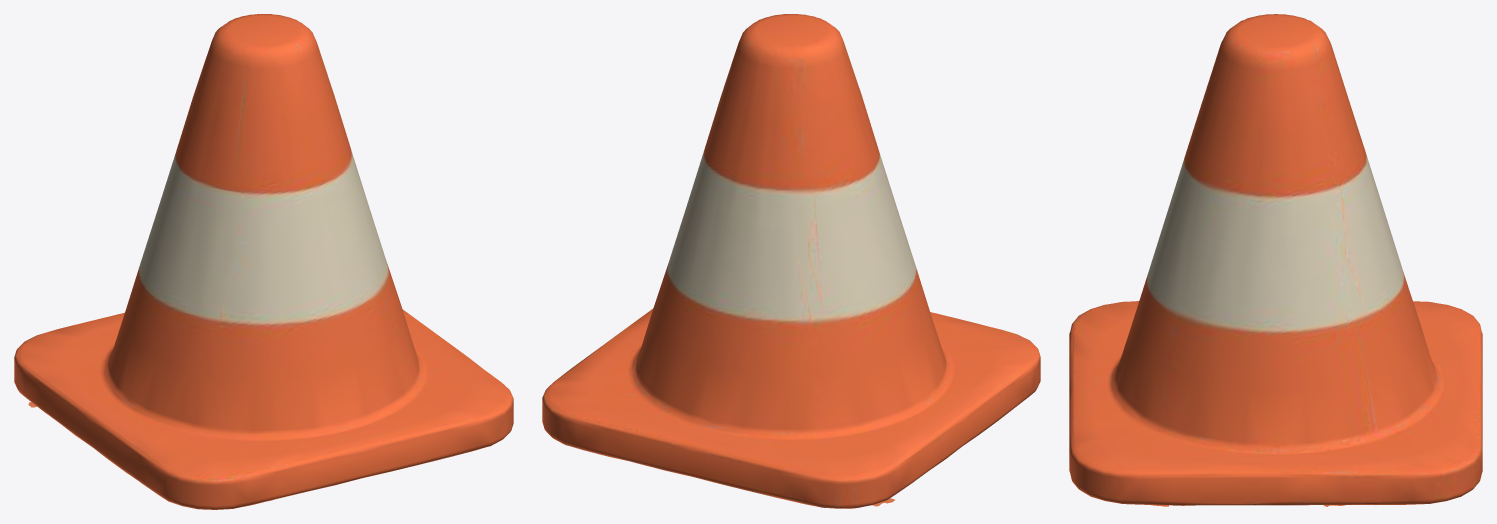
Rendered from traffic_cone.glb.
3 views of the same model, side by side, from view 1: azimuth 30°, elevation 25°; view 2: azimuth 150°, elevation 25°; view 3: azimuth 270°, elevation 25° (orthographic). The views are drawn at different scales.
Visible parts, largest first — view 1: tripo_node_440c4243-bf22-41bd-a63c-8d0c5fa62843; view 2: tripo_node_440c4243-bf22-41bd-a63c-8d0c5fa62843; view 3: tripo_node_440c4243-bf22-41bd-a63c-8d0c5fa62843.
Part boxes in pixels (x1,y1,x2,y2): tripo_node_440c4243-bf22-41bd-a63c-8d0c5fa62843: (14, 14, 513, 509); tripo_node_440c4243-bf22-41bd-a63c-8d0c5fa62843: (542, 14, 1040, 508); tripo_node_440c4243-bf22-41bd-a63c-8d0c5fa62843: (1069, 14, 1482, 506).
Size of the model in its own units: 0.9395 by 0.998 by 0.9395.
Materials: 1 (1 with a texture image).
